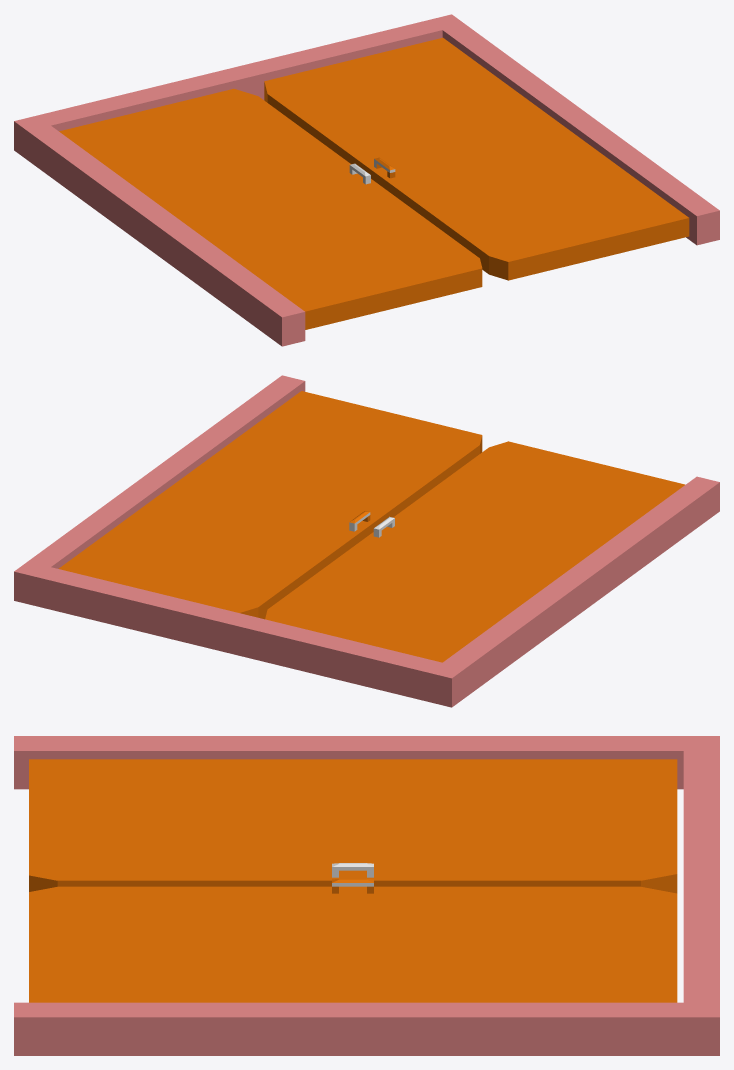
File: door.dae
3 renders of one model, top to bottom at view 1: azimuth 30°, elevation 25°; view 2: azimuth 150°, elevation 25°; view 3: azimuth 270°, elevation 25°, orthographic. The views are drawn at different scales.
Parts seen in each view (by area): view 1: Door.001, Door.002, Frame; view 2: Door.001, Door.002, Frame; view 3: Door.002, Door.001, Frame.
Boxes of the visible parts, left/top/right/bottom form: Door.001: left=264, top=37, right=689, bottom=280; Door.002: left=59, top=88, right=482, bottom=329; Frame: left=14, top=14, right=719, bottom=346; Door.001: left=58, top=391, right=482, bottom=619; Door.002: left=265, top=441, right=685, bottom=662; Frame: left=14, top=375, right=719, bottom=707; Door.002: left=29, top=759, right=677, bottom=893; Door.001: left=29, top=878, right=677, bottom=1002; Frame: left=14, top=736, right=719, bottom=1055.
Bounding box in the file's own units: 7.84 × 8.32 × 0.6454.
